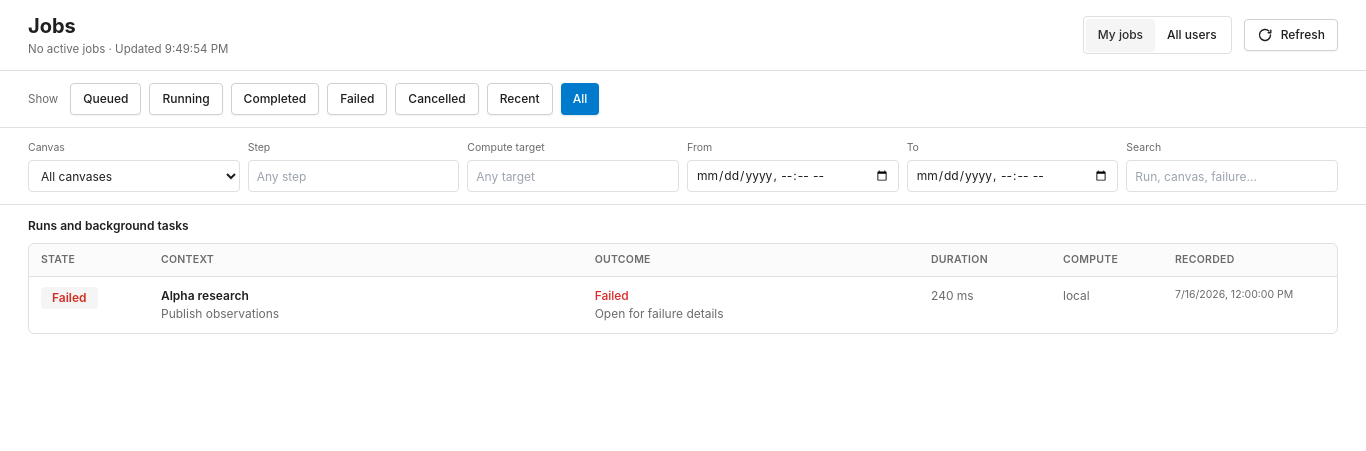
Test: JobsView › uses the history identity when a legacy row has no logical run id
Click the button with test id "job-row-history-1" at (683, 305), box [29,277,1337,333]
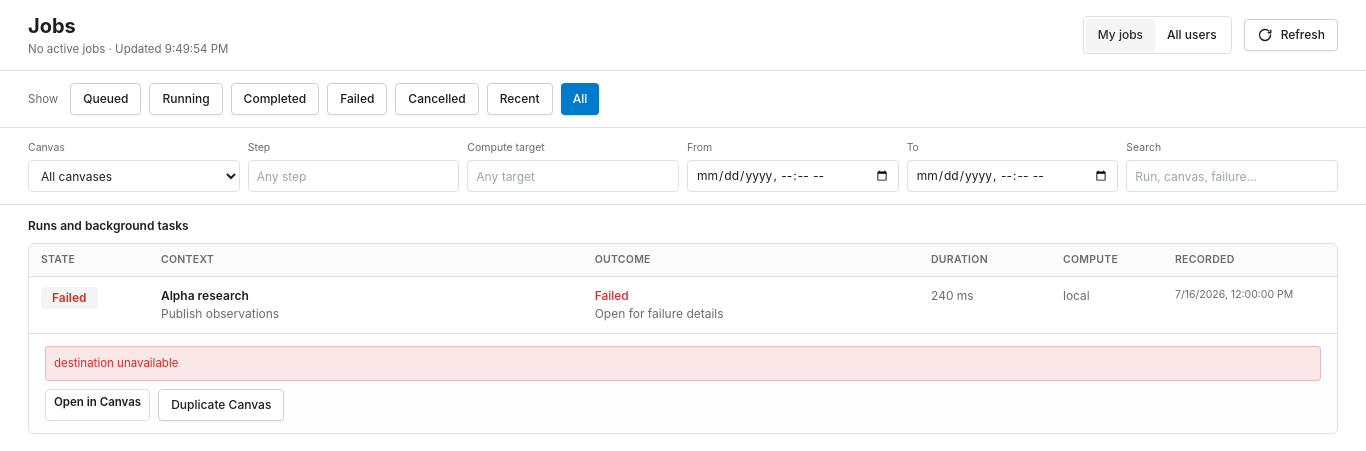
Check: the message reads "destination unavailable", box [54,356,178,370]
